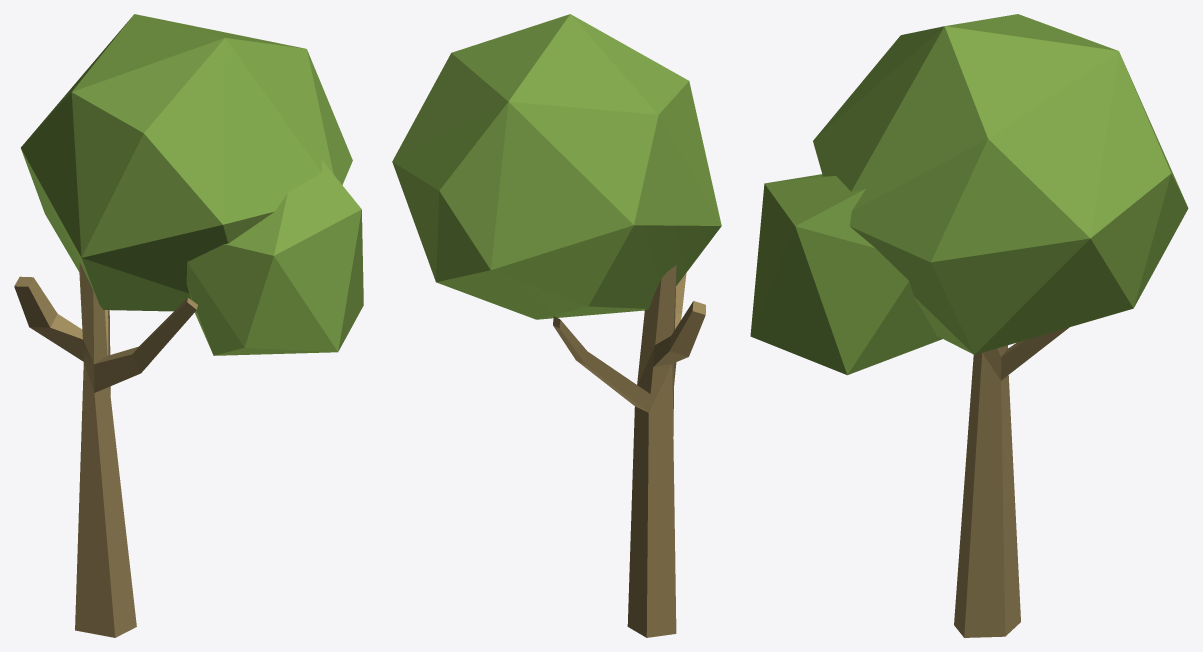
Rendered from TreeMedium (59).fbx.
3 views of the same model, side by side, from view 1: azimuth 30°, elevation 25°; view 2: azimuth 150°, elevation 25°; view 3: azimuth 270°, elevation 25° (orthographic). The views are drawn at different scales.
Visible parts, largest first — view 1: TreeMedium.002; view 2: TreeMedium.002; view 3: TreeMedium.002.
Boxes of the visible parts, x1,y1,x2,y2 form: TreeMedium.002: [14, 14, 363, 637]; TreeMedium.002: [392, 14, 721, 637]; TreeMedium.002: [750, 14, 1188, 637].
Bounding box in the file's own units: 0.5458 × 1.02 × 0.6154.
